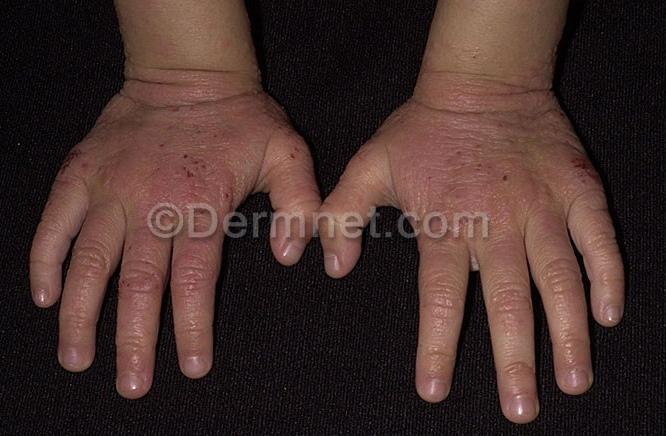eritema 1: (73, 65, 261, 301), (399, 71, 578, 233)
exudacion 1: (143, 141, 231, 205)
exudacion 2: (258, 98, 301, 142), (565, 153, 605, 192), (55, 146, 90, 183)
